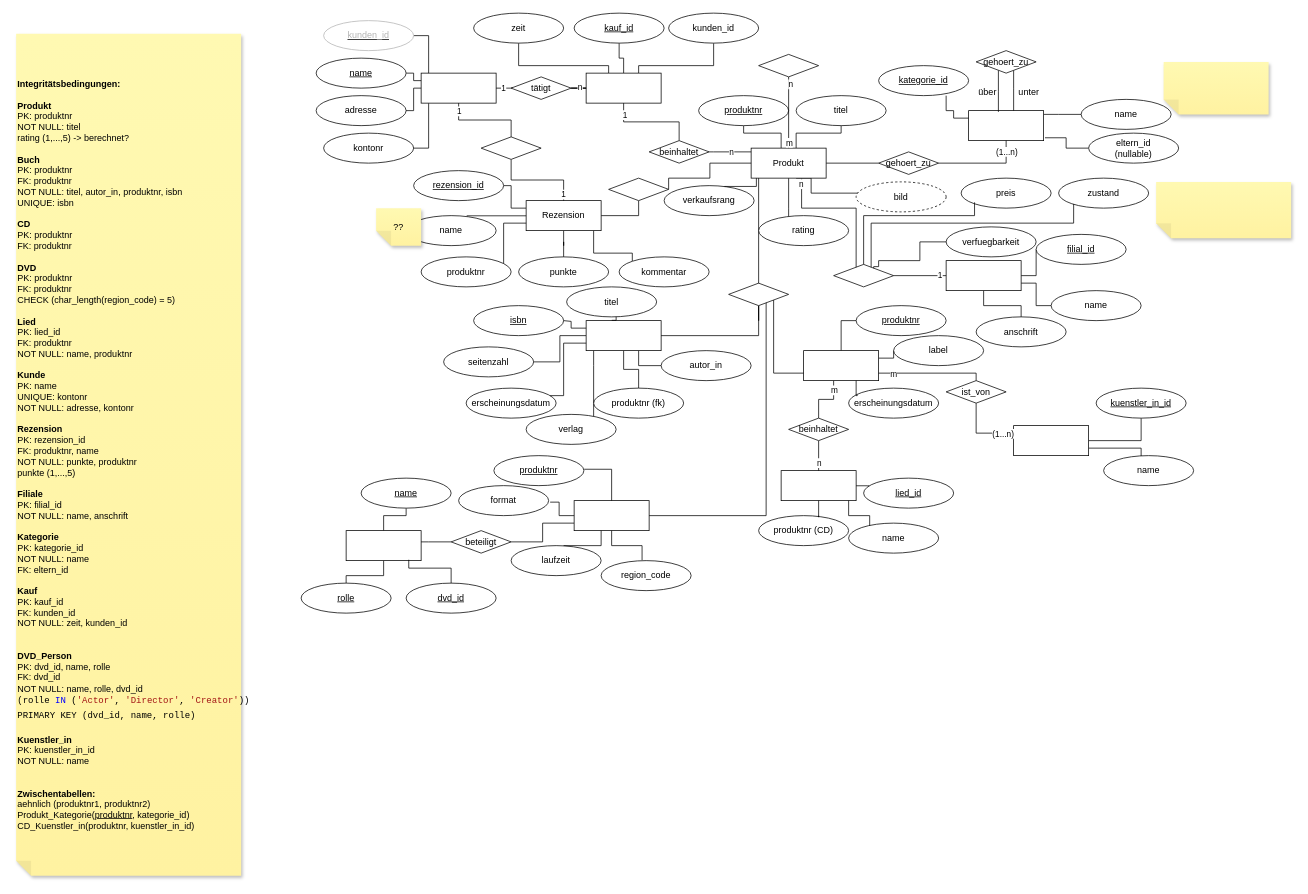
Some shapes in this 1308 by 894 pixel diagram are drawn without their labels. The centre of each missing label's shape, as x and y in pixels:
"aehnlich" goes at (788,65).
"bewertet" goes at (638,189).
"Buch" goes at (623,335).
"CD" goes at (841,365).
"Die Verfügbarkeit ist dadurch gekennzeichnet, ob ein Preis vorliegt oder nicht." goes at (1224,210).
"DVD" goes at (611,515).
"DVD_Person" goes at (383,545).
"Filiale" goes at (983,275).
"Hauptkategorie und Unterkategorie unterscheiden?" goes at (1216,88).
"is_a" goes at (758,294).
"Kategorie" goes at (1006,125).
"Kauf" goes at (623,87).
"Kuenstler_in" goes at (1051,440).
"Kunde" goes at (458,87).
"Lied" goes at (818,485).
"schreibt" goes at (510,147).
"verkauft" goes at (863,275).
